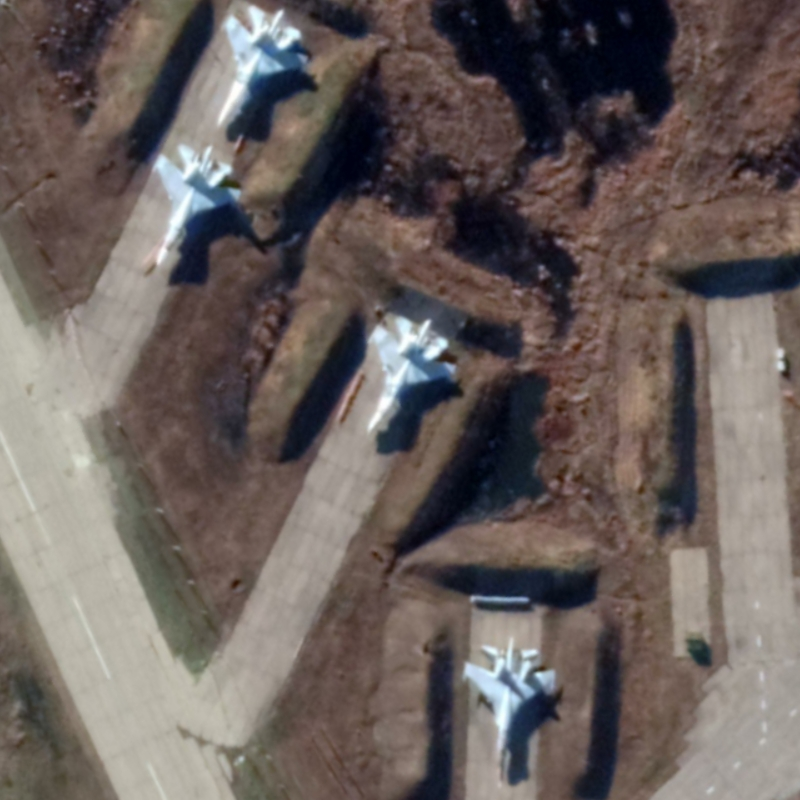A1: (458, 638, 559, 787), (212, 2, 313, 130), (360, 311, 460, 436), (149, 141, 244, 268)
